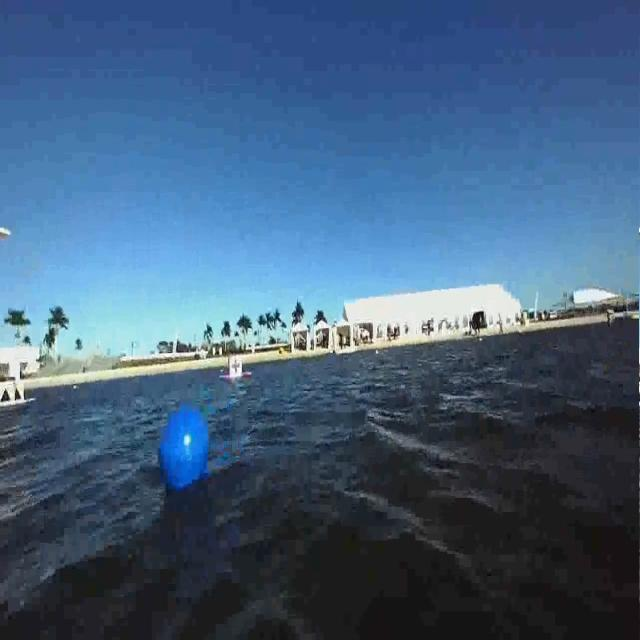blue-buoy: (158, 404, 210, 494)
